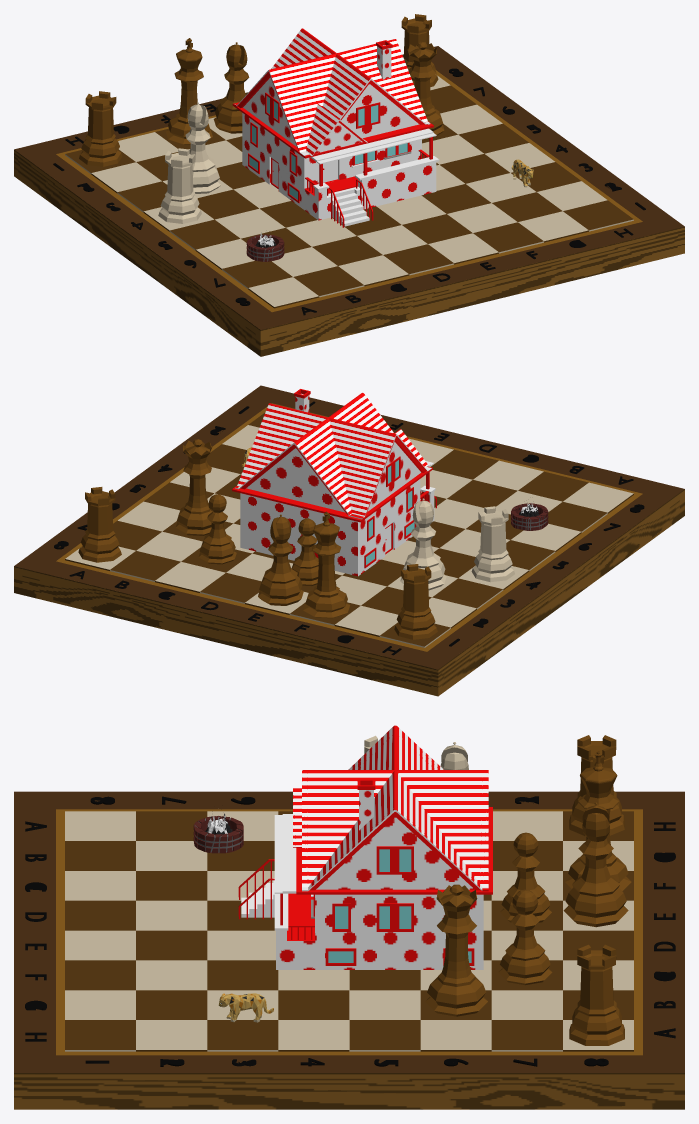
The picture shows the model from 3 angles, top to bottom: view 1: azimuth 30°, elevation 25°; view 2: azimuth 150°, elevation 25°; view 3: azimuth 270°, elevation 25°; orthographic projection. The views are drawn at different scales.
Parts seen in each view (by area): view 1: Cube.002, Cube.196, OBJRANDOM_CAMPFIRE; view 2: Cube.002, Cube.196, OBJRANDOM_CAMPFIRE; view 3: Cube.002, Cube.196, OBJRANDOM_CAMPFIRE, ANIMAL_JAGUAR.
Boxes of the visible parts, <box> form: Cube.002: <box>14,14,684,356</box>; Cube.196: <box>232,28,439,227</box>; OBJRANDOM_CAMPFIRE: <box>246,232,284,261</box>; Cube.002: <box>14,385,684,696</box>; Cube.196: <box>232,389,436,576</box>; OBJRANDOM_CAMPFIRE: <box>511,502,548,530</box>; Cube.002: <box>14,735,684,1109</box>; Cube.196: <box>238,725,492,969</box>; OBJRANDOM_CAMPFIRE: <box>193,809,243,853</box>; ANIMAL_JAGUAR: <box>218,993,273,1022</box>.
Bounding box in the file's own units: 3981 × 1492 × 4012.
Materials: 25 (3 with a texture image).
